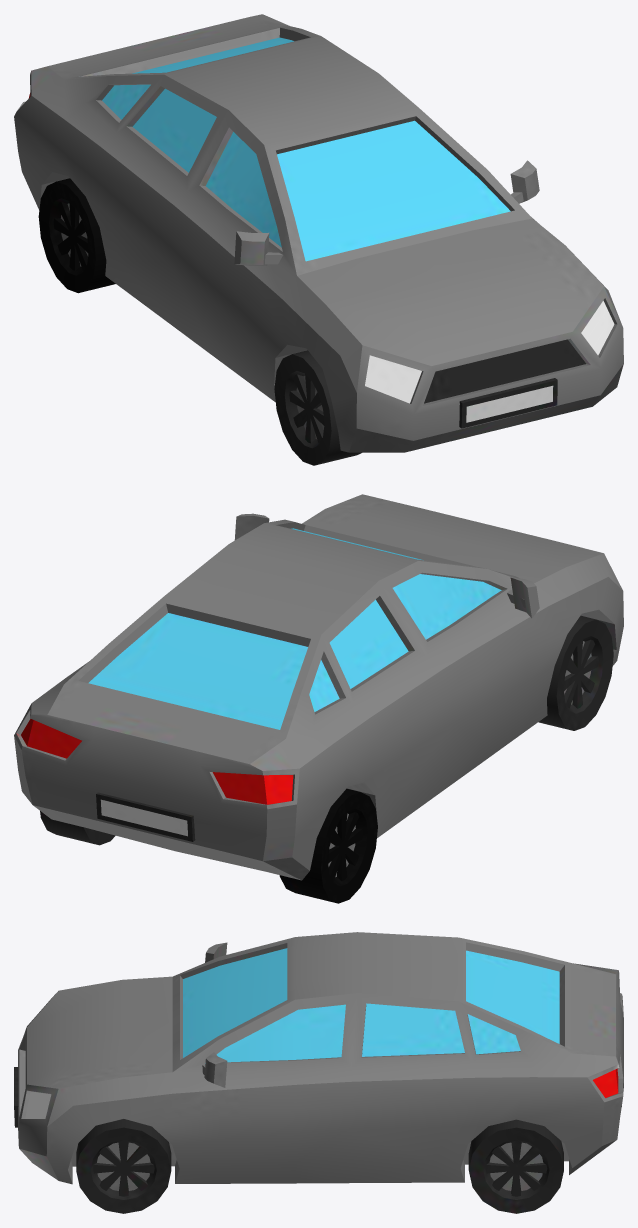
File: LP_Car.gltf
3 renders of one model, top to bottom at view 1: azimuth 30°, elevation 25°; view 2: azimuth 150°, elevation 25°; view 3: azimuth 270°, elevation 25°, orthographic. The views are drawn at different scales.
Visible parts, largest first — view 1: Car_Sedan; view 2: Car_Sedan; view 3: Car_Sedan.
Boxes of the visible parts, <box> form: Car_Sedan: <box>14,14,623,465</box>; Car_Sedan: <box>14,494,623,903</box>; Car_Sedan: <box>14,932,623,1213</box>.
Size of the model in its own units: 1.78 by 1.32 by 3.77.
Materials: 1 (1 with a texture image).
